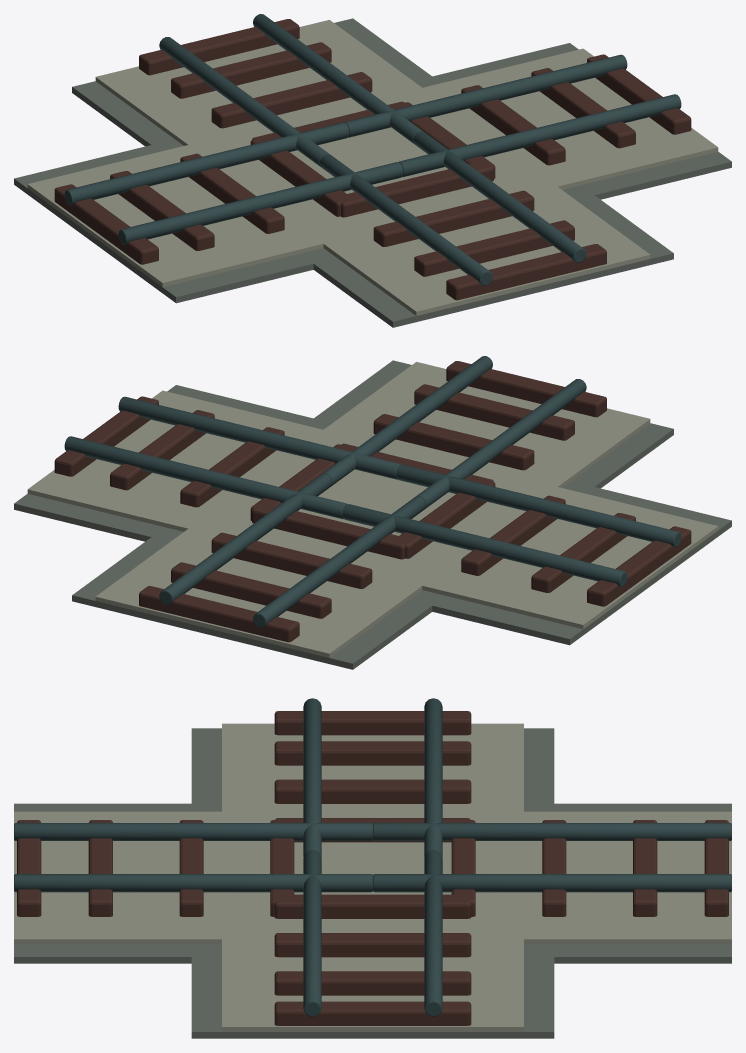
File: tram_cross.glb
3 views of the same model, one above another, from view 1: azimuth 30°, elevation 25°; view 2: azimuth 150°, elevation 25°; view 3: azimuth 270°, elevation 25° (orthographic). The views are drawn at different scales.
Visible parts, largest first — view 1: tram_cross · stone, tram_cross · wood, tram_cross · metal, tram_cross · stone_dark; view 2: tram_cross · stone, tram_cross · wood, tram_cross · metal, tram_cross · stone_dark; view 3: tram_cross · stone, tram_cross · wood, tram_cross · metal, tram_cross · stone_dark.
Part boxes in pixels (<box>): tram_cross · stone: <box>27,20,718,315</box>; tram_cross · wood: <box>54,19,691,300</box>; tram_cross · metal: <box>64,14,681,285</box>; tram_cross · stone_dark: <box>14,18,731,327</box>; tram_cross · stone: <box>27,362,718,657</box>; tram_cross · wood: <box>54,361,691,642</box>; tram_cross · metal: <box>64,356,681,627</box>; tram_cross · stone_dark: <box>14,360,731,669</box>; tram_cross · stone: <box>14,723,731,1031</box>; tram_cross · wood: <box>17,711,728,1025</box>; tram_cross · metal: <box>14,698,731,1016</box>; tram_cross · stone_dark: <box>14,728,731,1038</box>.
Bounding box in the file's own units: 0.95 × 0.055 × 0.95.
